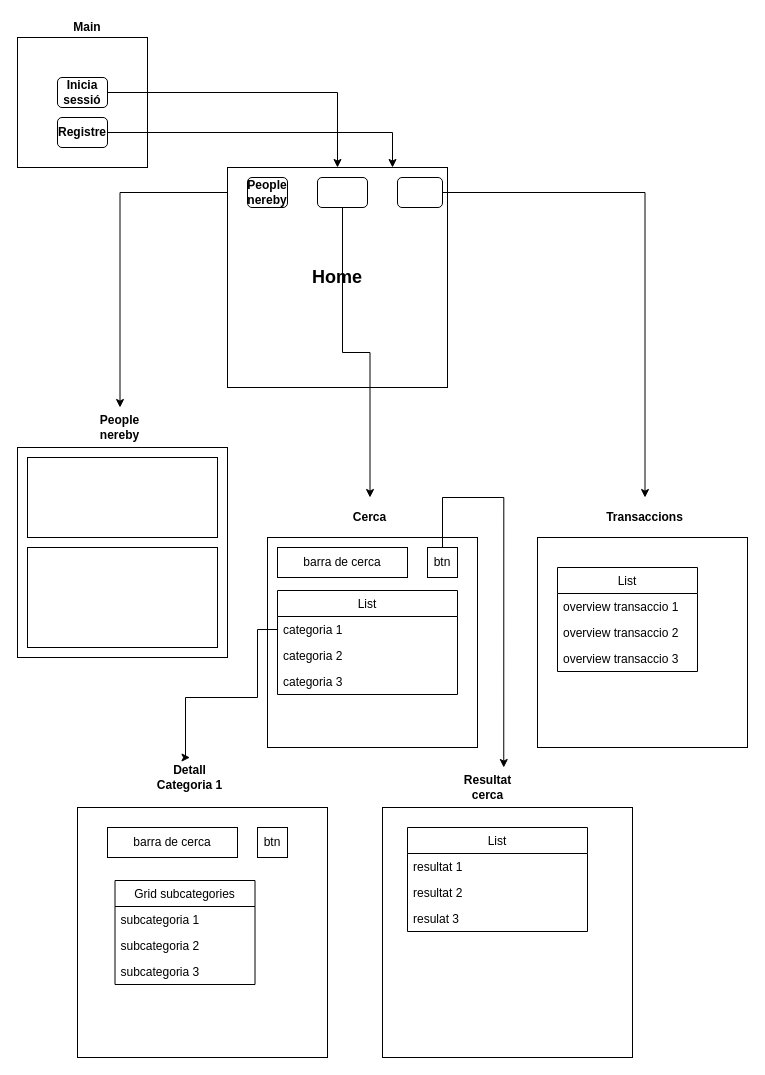
Some shapes in this 765 by 1075 pixel diagram are drawn without their labels. Each missing label, with the centre of its shape:
Google maps: [122,497]
List of people's activities: [122,597]
Msg: [419,192]
Search: [342,192]
